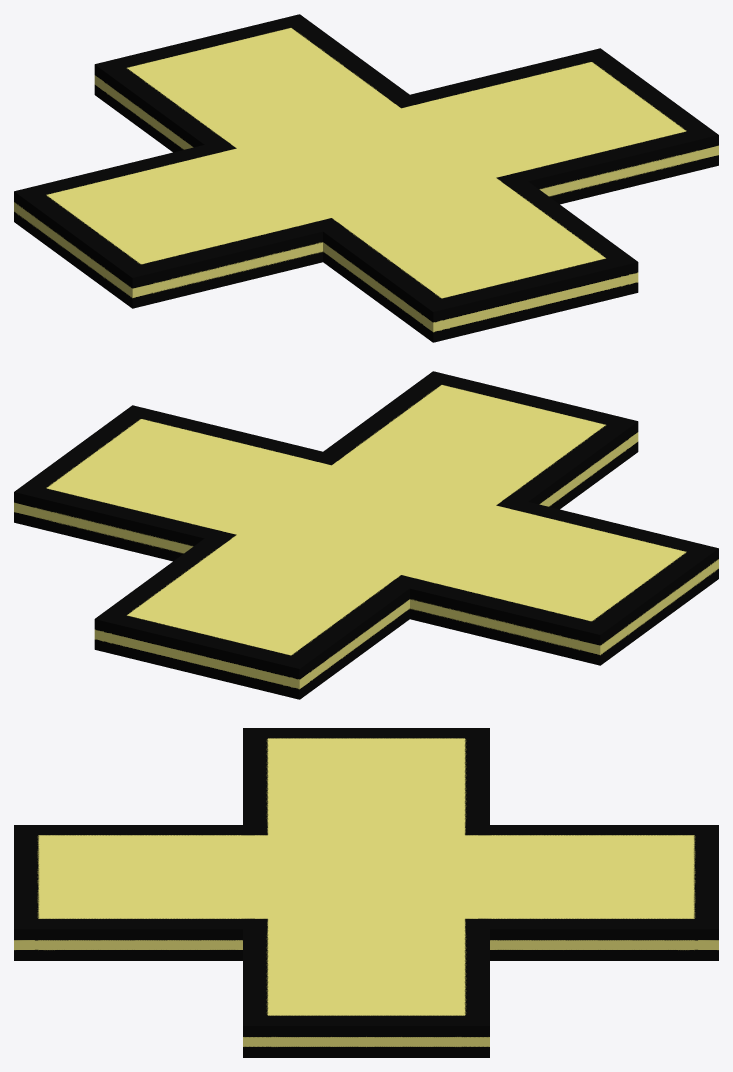
The model's file is Player3Tile.fbx.
3 views of the same model, one above another, from view 1: azimuth 30°, elevation 25°; view 2: azimuth 150°, elevation 25°; view 3: azimuth 270°, elevation 25° (orthographic). The views are drawn at different scales.
Parts seen in each view (by area): view 1: Plane; view 2: Plane; view 3: Plane.
Part boxes in pixels (box(x1,y1,x2,y2)): Plane: box(14, 14, 718, 342); Plane: box(14, 371, 718, 699); Plane: box(14, 728, 718, 1057).
Bounding box in the file's own units: 200 × 10 × 200.
1 material, 1 textured.
